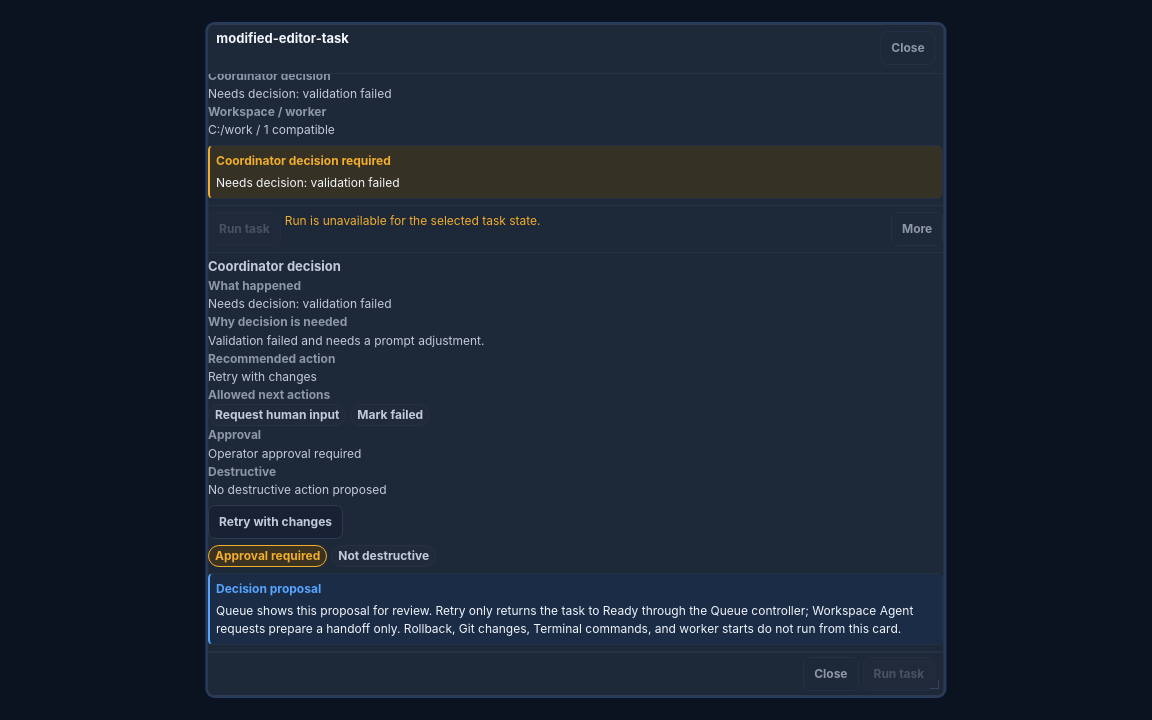
QueueV2TaskDetailsPopup › opens a compact modified prompt editor with the current prompt
(page scrolled)
Click the button "Retry with changes" at (276, 522), box [208,505,343,539]
(page scrolled)
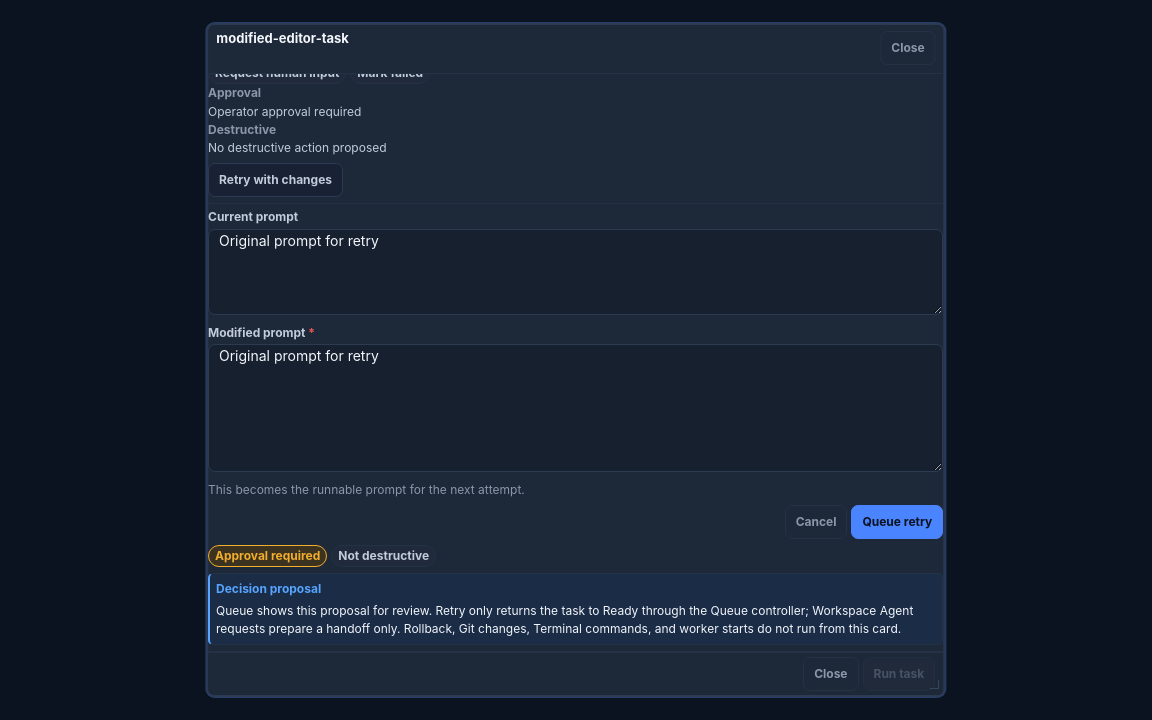
Result: the element named "Retry with modified prompt editor" shows "Current prompt" at [208,209,299,224]
Result: the element named "Retry with modified prompt editor" shows "Modified prompt" at [208,325,306,340]
Result: the text box named "Modified retry prompt" holds "Original prompt for retry" at [208,344,944,472]
